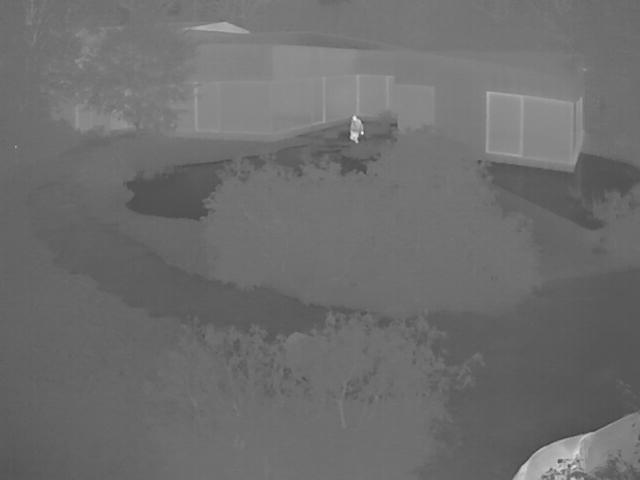person: (350, 114, 366, 143)
